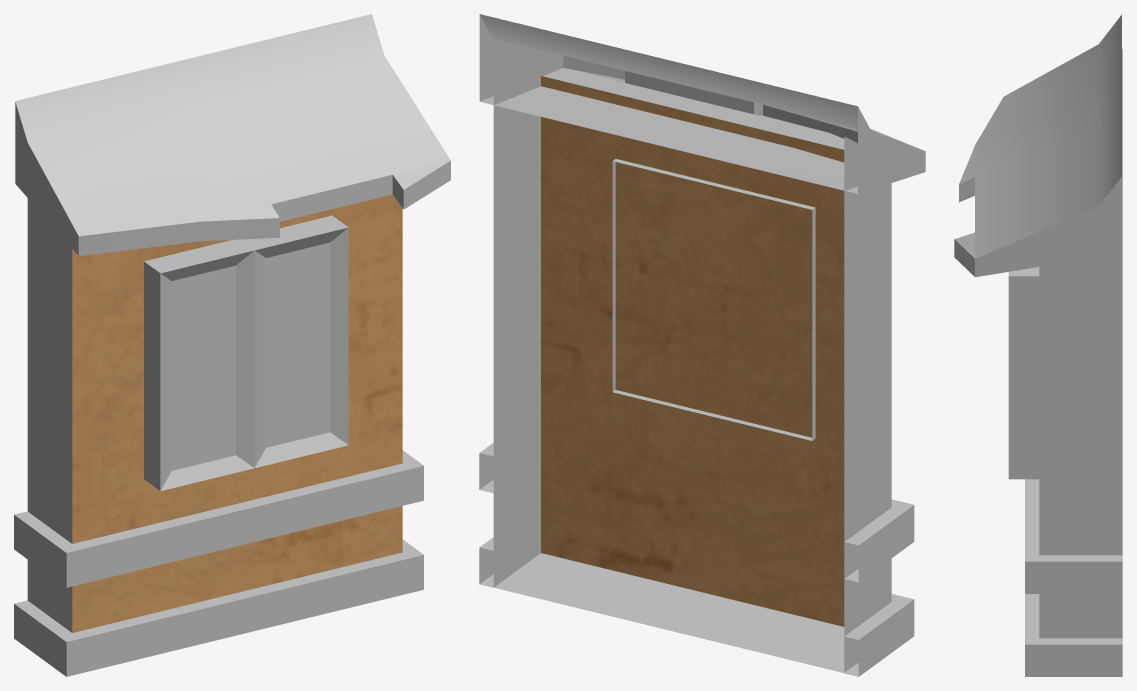
Rendered from Window_01.fbx.
3 views of the same model, side by side, from view 1: azimuth 30°, elevation 25°; view 2: azimuth 150°, elevation 25°; view 3: azimuth 270°, elevation 25° (orthographic). The views are drawn at different scales.
Parts seen in each view (by area): view 1: Window_01; view 2: Window_01; view 3: Window_01.
Part boxes in pixels (x1,y1,x2,y2): Window_01: [14, 14, 450, 676]; Window_01: [479, 14, 925, 676]; Window_01: [954, 14, 1122, 676].
Bounding box in the file's own units: 25.44 × 36.54 × 11.11.
